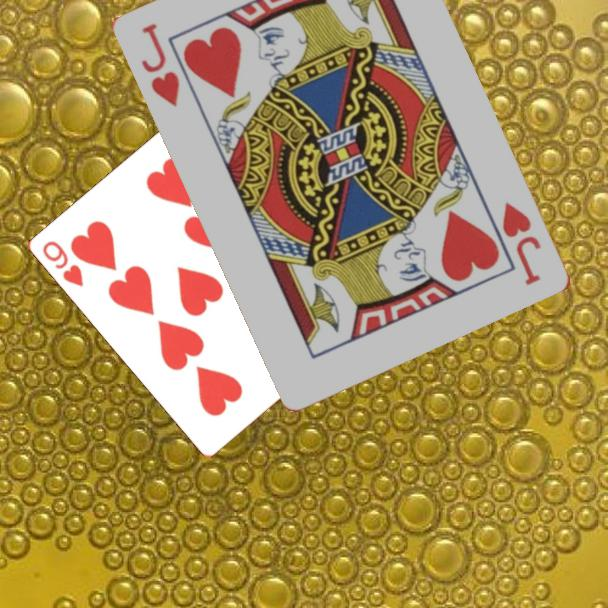h09: (39, 237, 87, 290)
h11: (138, 19, 184, 111), (499, 198, 545, 289)
